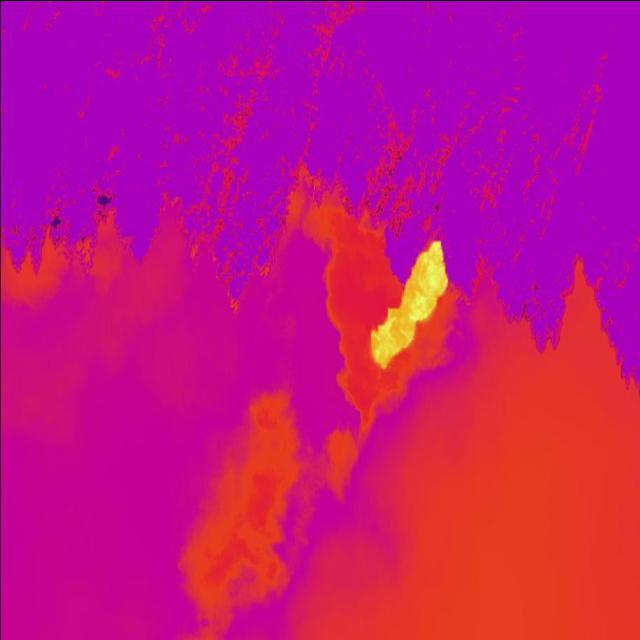fire: (368, 239, 462, 375)
